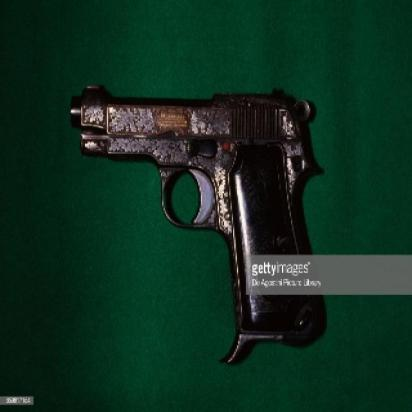Gun: (64, 80, 330, 353)
